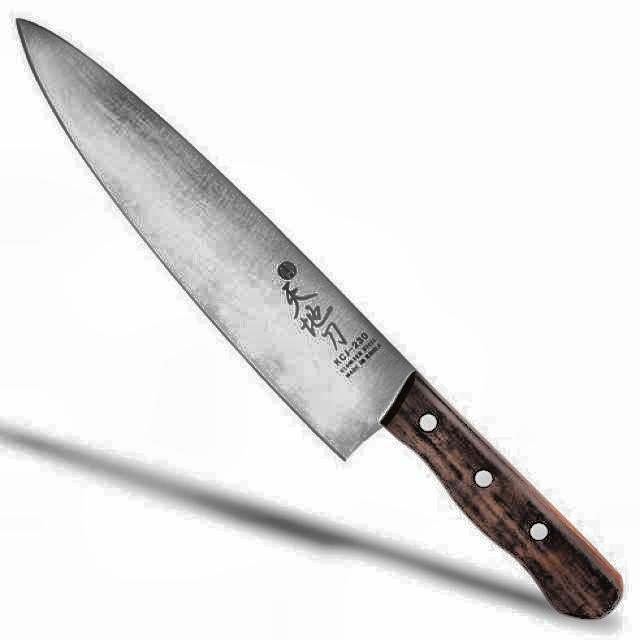knife: (14, 13, 629, 623)
